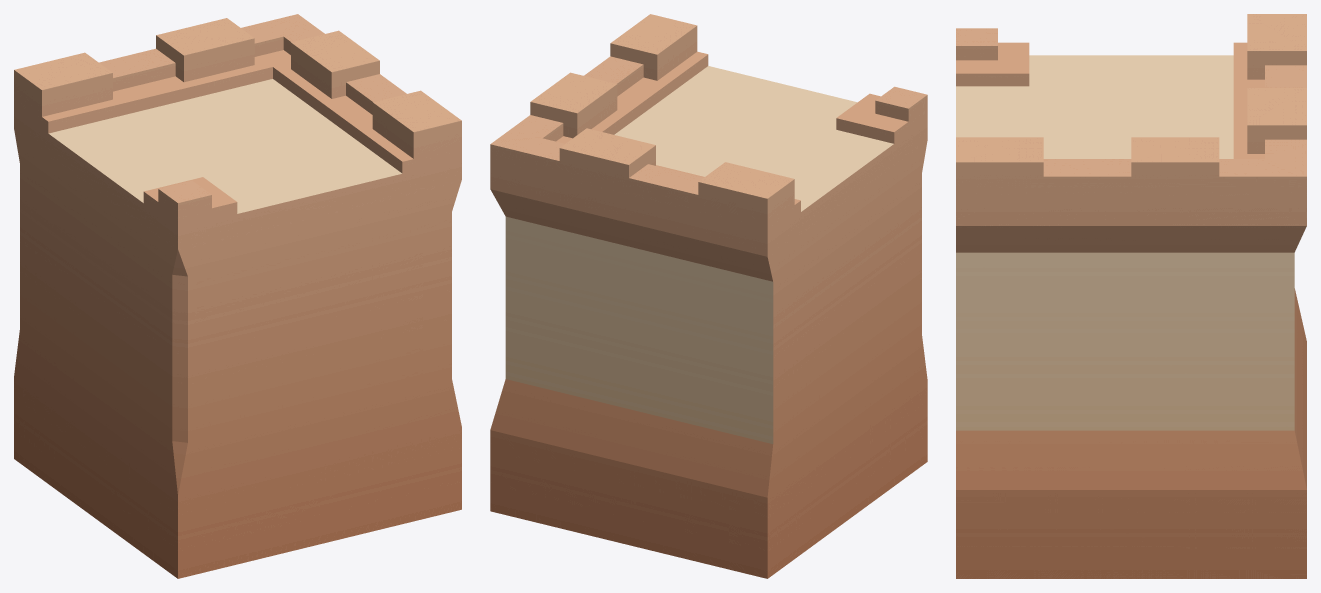
File: wall-corner.glb
3 views of the same model, side by side, from view 1: azimuth 30°, elevation 25°; view 2: azimuth 150°, elevation 25°; view 3: azimuth 270°, elevation 25° (orthographic). The views are drawn at different scales.
Parts seen in each view (by area): view 1: wall-corner; view 2: wall-corner; view 3: wall-corner.
Boxes of the visible parts, x1,y1,x2,y2 form: wall-corner: (14,14,461,578); wall-corner: (490,14,927,578); wall-corner: (956,14,1306,578).
Size of the model in its own units: 1 by 1.31 by 1.
Materials: 1 (1 with a texture image).
